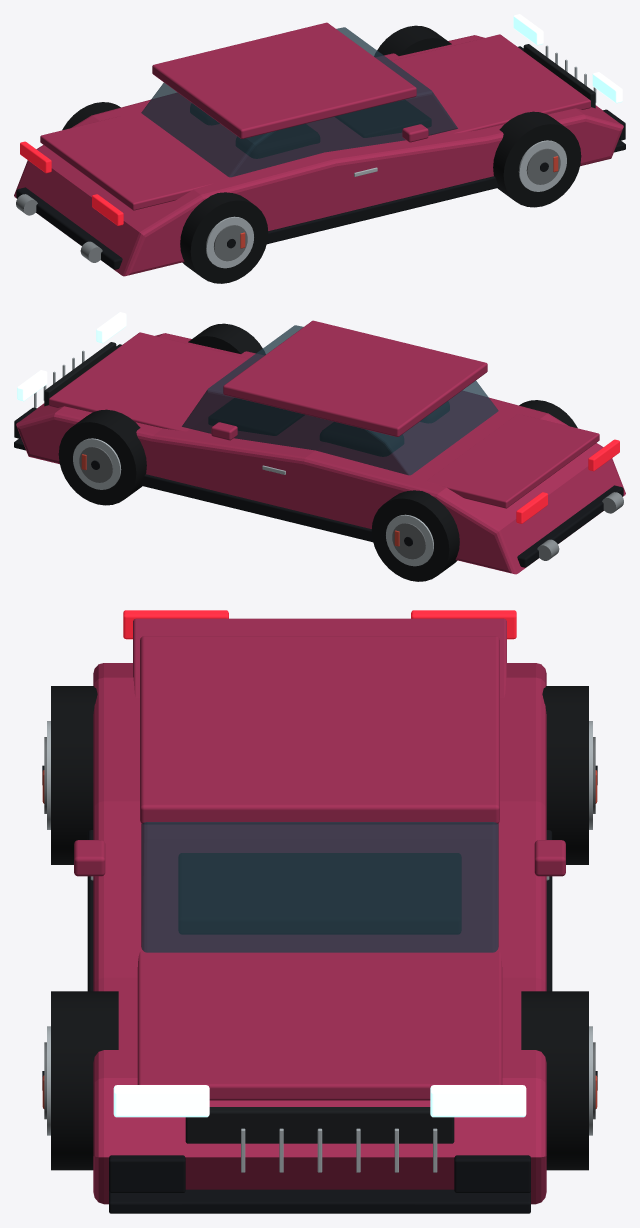
File: rose-runner.glb
3 renders of one model, top to bottom at view 1: azimuth 30°, elevation 25°; view 2: azimuth 150°, elevation 25°; view 3: azimuth 270°, elevation 25°, orthographic. The views are drawn at different scales.
Parts seen in each view (by area): view 1: sculpted_body, roof, glasshouse, hood_center, rear_deck, front_right_wheel_tire, rear_right_wheel_tire, side_skirt_1, dashboard, seat_1, rear_diffuser, front_left_wheel_tire (+11 smaller); view 2: sculpted_body, roof, glasshouse, hood_center, rear_deck, front_left_wheel_tire, rear_left_wheel_tire, side_skirt_-1, dashboard, seat_-1, rear_diffuser, front_right_wheel_tire (+11 smaller); view 3: sculpted_body, roof, hood_center, glasshouse, dashboard, front_splitter, front_left_wheel_tire, front_right_wheel_tire, front_grille, rear_deck, rear_left_wheel_tire, rear_right_wheel_tire (+10 smaller).
Boxes of the visible parts, left/top/right/bottom form: sculpted_body: left=14, top=35, right=623, bottom=276; roof: left=152, top=22, right=416, bottom=138; glasshouse: left=141, top=27, right=457, bottom=177; hood_center: left=384, top=34, right=590, bottom=133; rear_deck: left=40, top=116, right=213, bottom=210; front_right_wheel_tire: left=493, top=111, right=581, bottom=207; rear_right_wheel_tire: left=180, top=192, right=268, bottom=283; side_skirt_1: left=267, top=176, right=499, bottom=244; dashboard: left=336, top=100, right=430, bottom=137; seat_1: left=236, top=124, right=319, bottom=158; rear_diffuser: left=16, top=187, right=122, bottom=269; front_left_wheel_tire: left=374, top=25, right=451, bottom=56; sculpted_body: left=16, top=333, right=625, bottom=574; roof: left=223, top=320, right=487, bottom=436; glasshouse: left=182, top=325, right=498, bottom=475; hood_center: left=49, top=332, right=255, bottom=431; rear_deck: left=426, top=414, right=599, bottom=508; front_left_wheel_tire: left=58, top=409, right=146, bottom=505; rear_left_wheel_tire: left=371, top=490, right=459, bottom=581; side_skirt_-1: left=140, top=474, right=372, bottom=542; dashboard: left=209, top=398, right=303, bottom=435; seat_-1: left=320, top=422, right=403, bottom=456; rear_diffuser: left=517, top=485, right=623, bottom=567; front_right_wheel_tire: left=188, top=323, right=265, bottom=354; sculpted_body: left=93, top=663, right=546, bottom=1204; roof: left=140, top=636, right=499, bottom=823; hood_center: left=137, top=950, right=502, bottom=1100; glasshouse: left=141, top=822, right=498, bottom=952; dashboard: left=179, top=853, right=460, bottom=933; front_splitter: left=109, top=1189, right=530, bottom=1213; front_left_wheel_tire: left=521, top=991, right=588, bottom=1170; front_right_wheel_tire: left=51, top=991, right=118, bottom=1170; front_grille: left=185, top=1107, right=454, bottom=1143; rear_deck: left=133, top=618, right=506, bottom=697; rear_left_wheel_tire: left=542, top=686, right=588, bottom=864; rear_right_wheel_tire: left=51, top=686, right=97, bottom=864.
Size of the model in its own units: 5 by 1.16 by 2.29.
